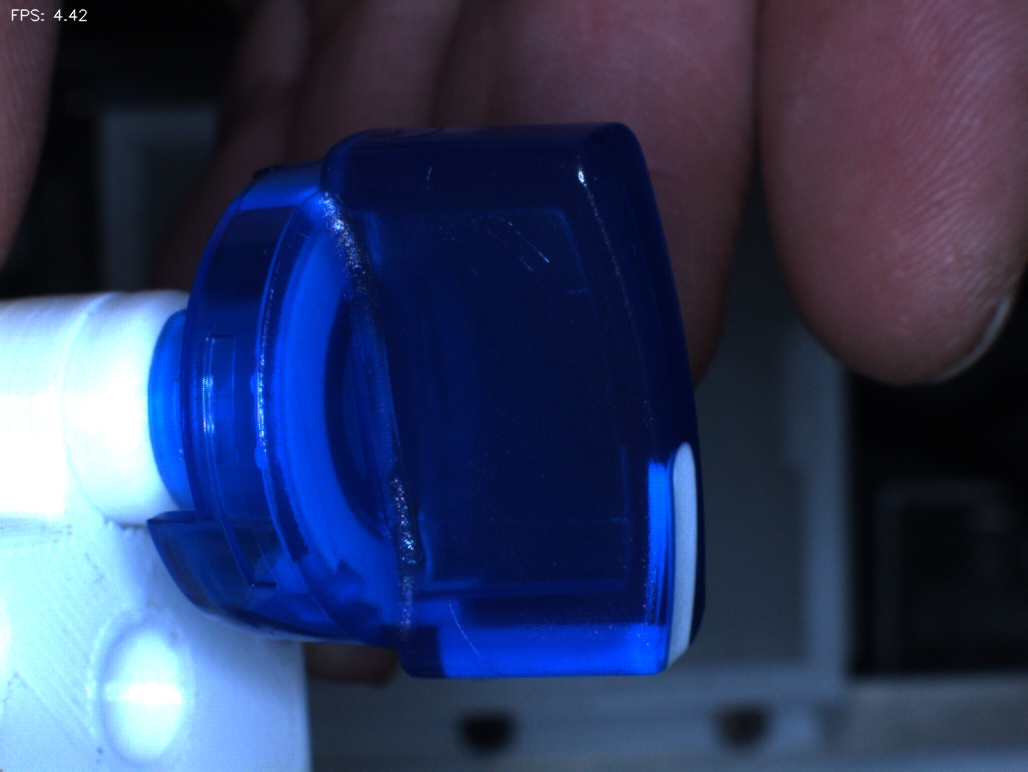Givrage: (414, 166, 554, 305)
